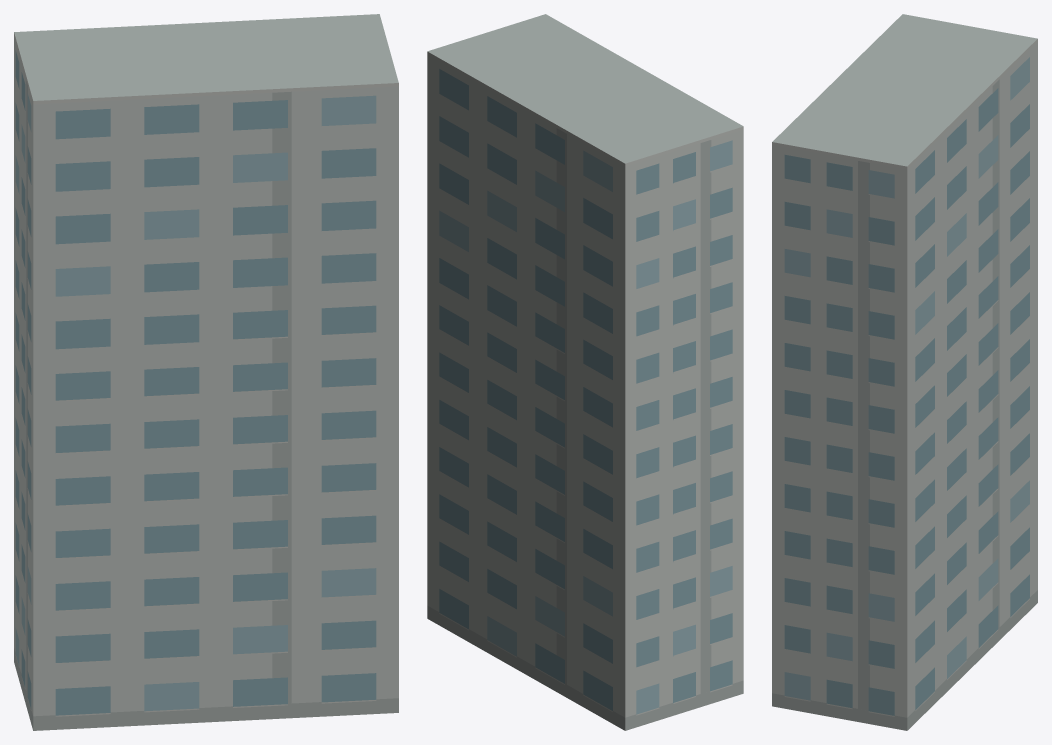
The model's file is residential-13d11847-b22f-4e08-99a5-94e76118a973.glb.
3 renders of one model, left to right at view 1: azimuth 30°, elevation 25°; view 2: azimuth 150°, elevation 25°; view 3: azimuth 270°, elevation 25°, orthographic. The views are drawn at different scales.
Parts seen in each view (by area): view 1: residential-13d11847-b22f-4e08-99a5-94e76118a973.tmp; view 2: residential-13d11847-b22f-4e08-99a5-94e76118a973.tmp; view 3: residential-13d11847-b22f-4e08-99a5-94e76118a973.tmp.
Part boxes in pixels (x1,y1,x2,y2): residential-13d11847-b22f-4e08-99a5-94e76118a973.tmp: (14,14,398,730); residential-13d11847-b22f-4e08-99a5-94e76118a973.tmp: (427,14,743,730); residential-13d11847-b22f-4e08-99a5-94e76118a973.tmp: (772,14,1037,730).
Size of the model in its own units: 24.94 by 43 by 18.36.
